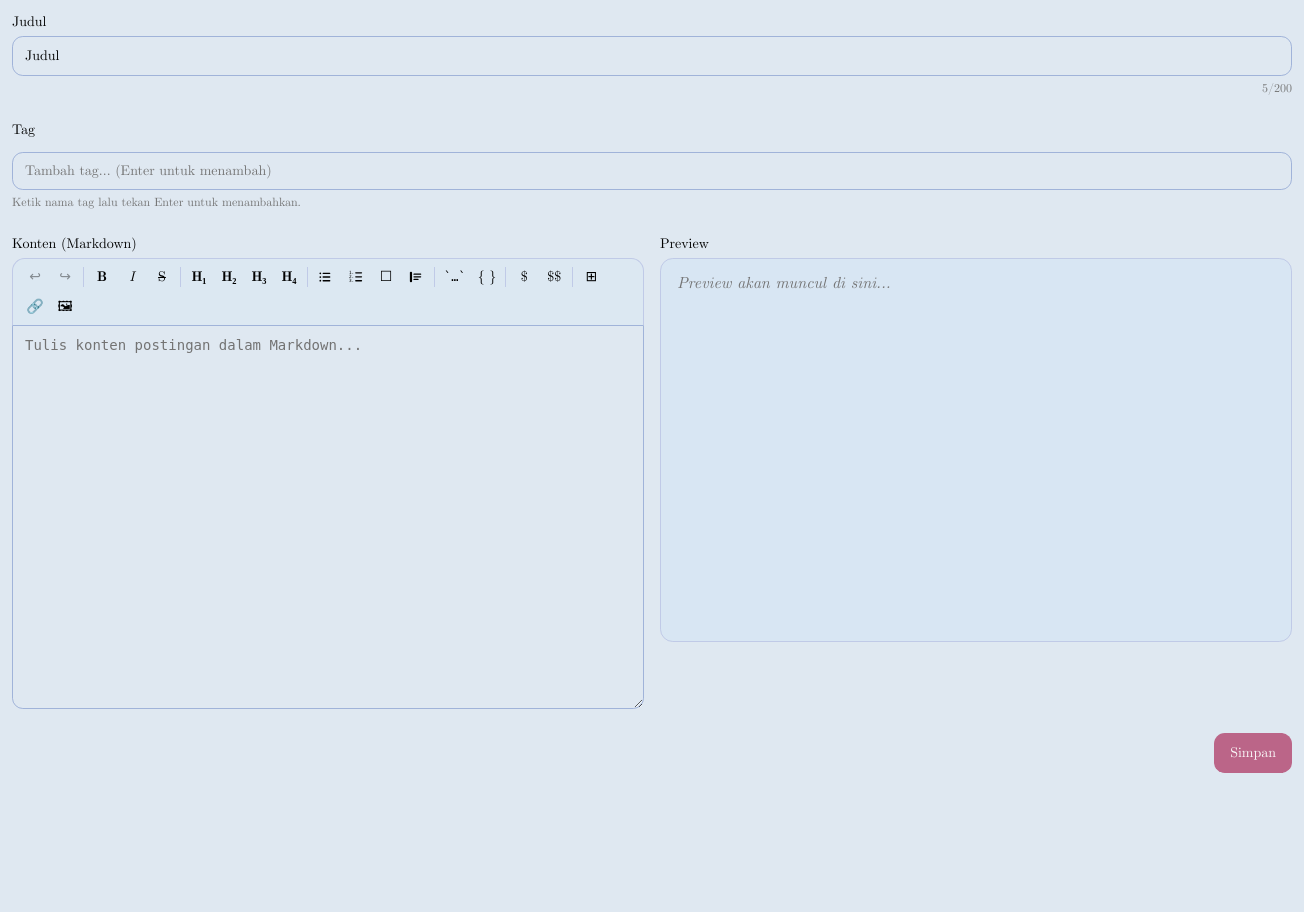
Test case: PostEditor › shows validation error when content is empty on submit
Click the button "Simpan": (1253, 753) x1=1214 y1=733 x2=1292 y2=773
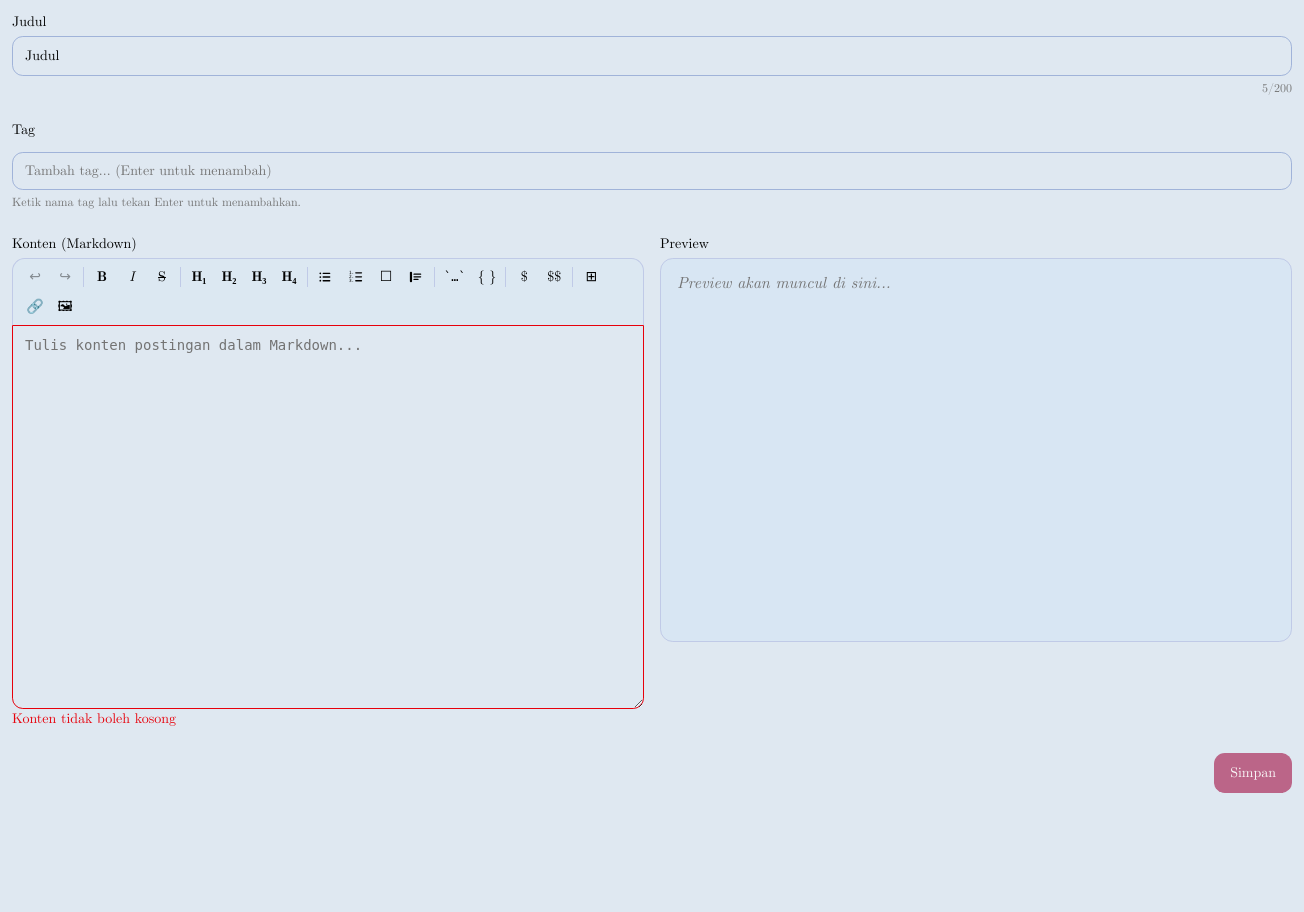
Result: the text "Konten tidak boleh kosong" is shown at x1=12 y1=712 x2=176 y2=726
